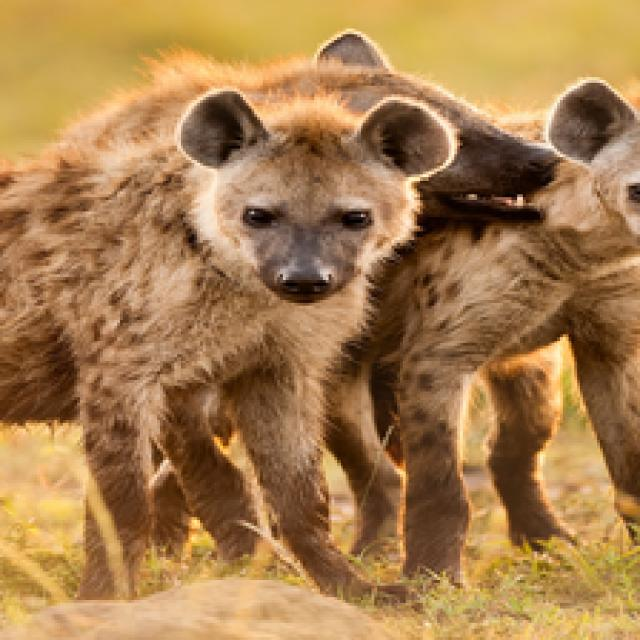hyena: (0, 58, 446, 600), (314, 14, 640, 574)
